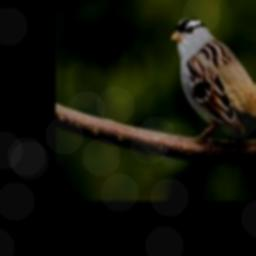Sparrow: (170, 16, 256, 155)
